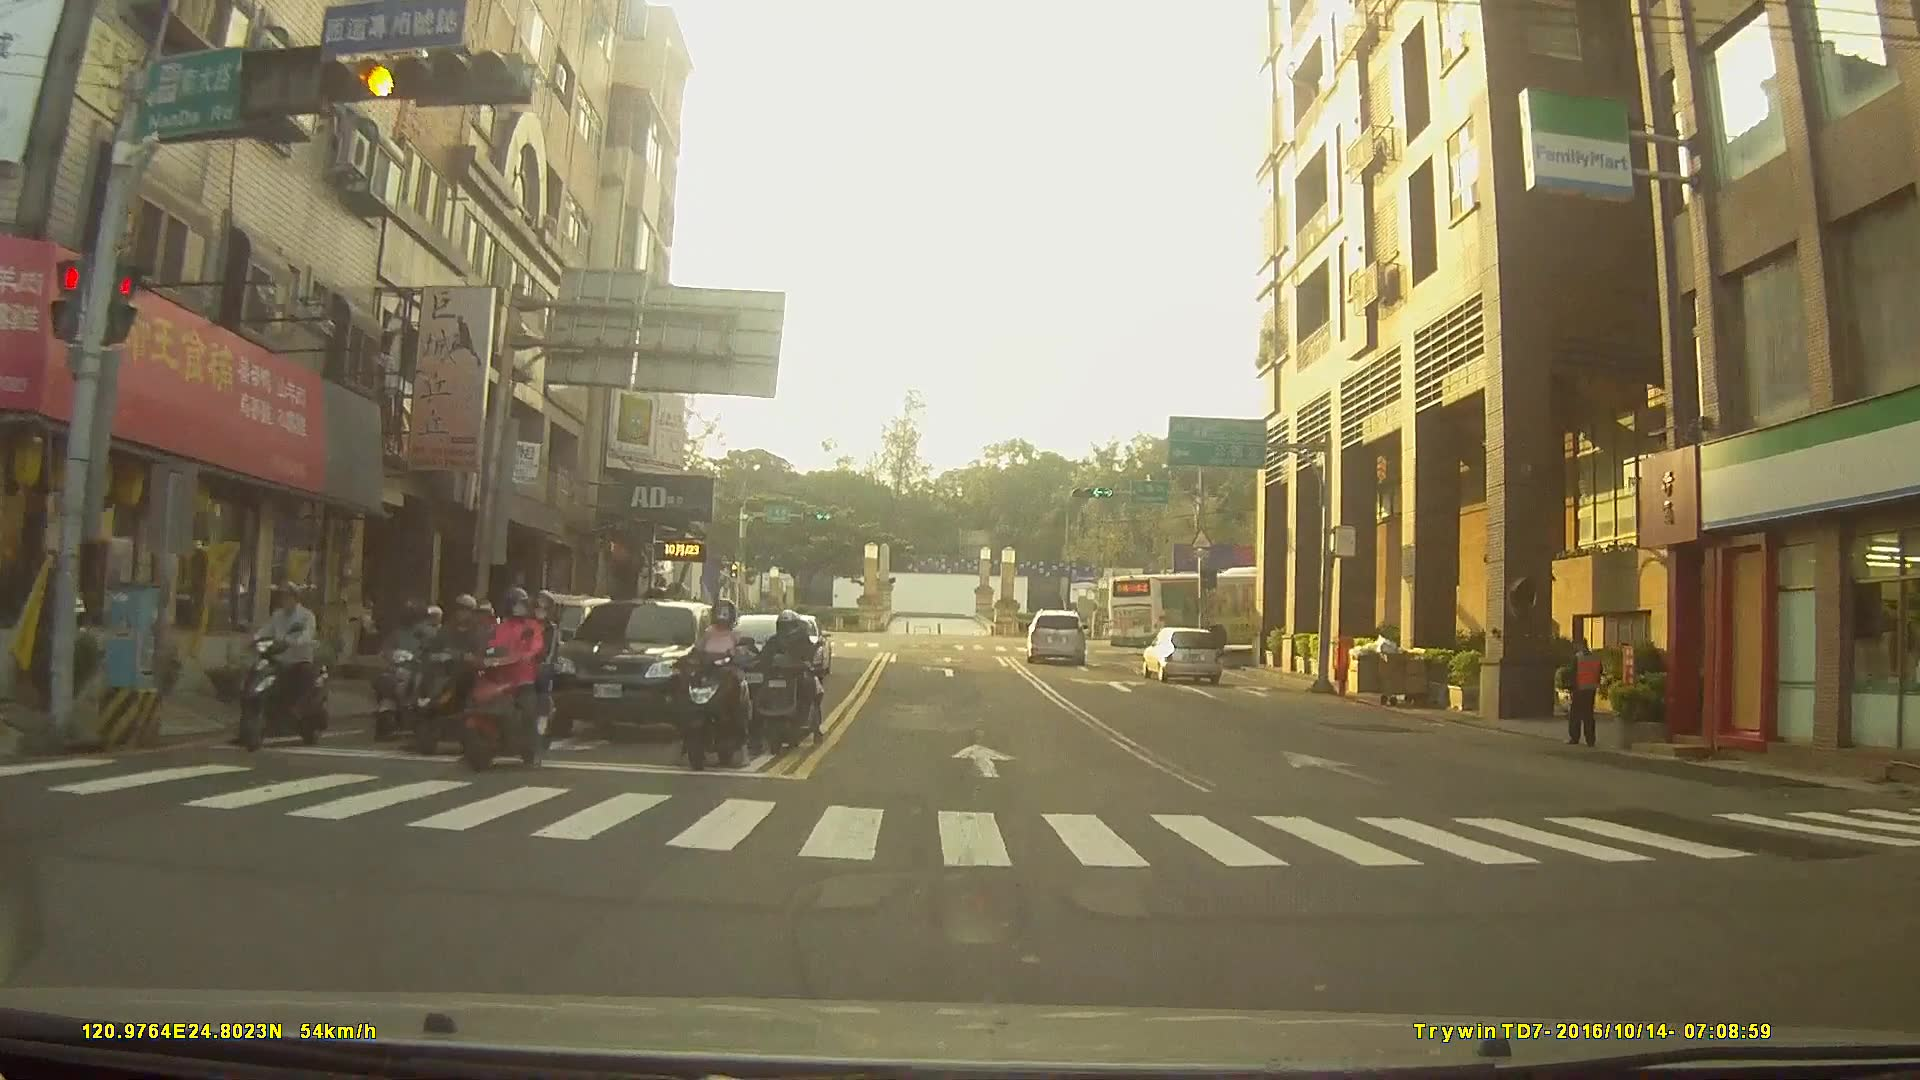pedestrian: (1557, 635, 1615, 752)
rider: (458, 585, 561, 774), (402, 588, 496, 759), (238, 583, 331, 752), (679, 601, 765, 770), (375, 603, 461, 740), (746, 611, 820, 756)
vehicle: (539, 595, 731, 739), (1106, 560, 1313, 657), (1140, 625, 1223, 683), (1024, 605, 1084, 660)
